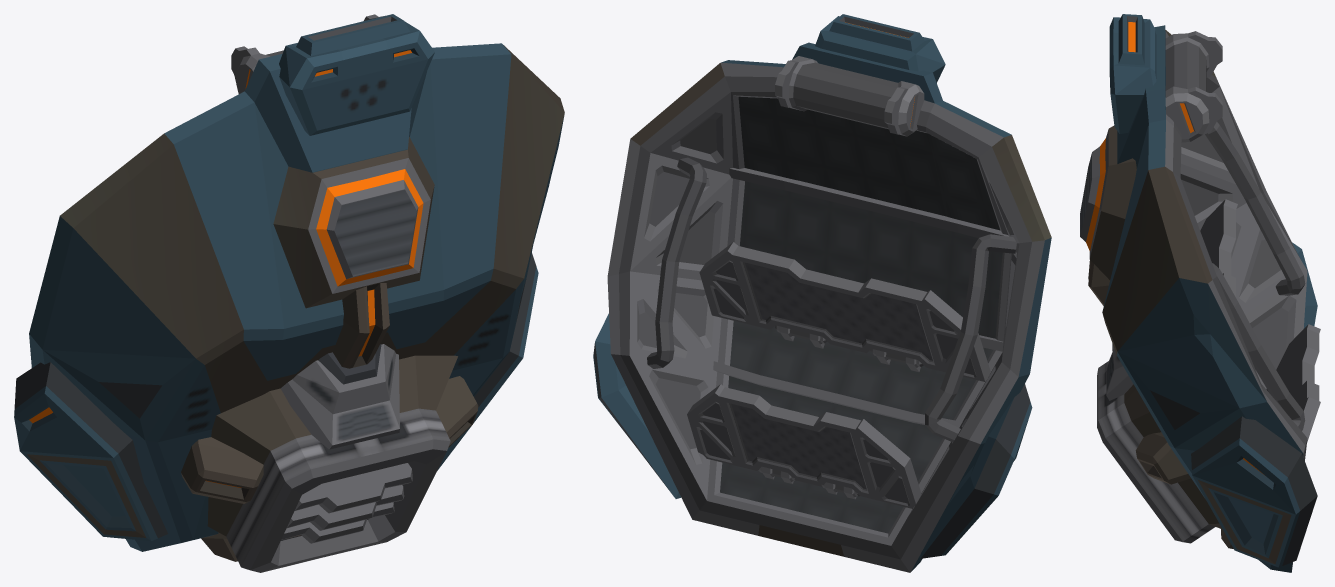
The model's file is SM_Mech_Cockpit_01_Armor_Door_01.fbx.
3 views of the same model, side by side, from view 1: azimuth 30°, elevation 25°; view 2: azimuth 150°, elevation 25°; view 3: azimuth 270°, elevation 25° (orthographic). The views are drawn at different scales.
Visible parts, largest first — view 1: SM_Mech_Cockpit_01_Armor_Door_01; view 2: SM_Mech_Cockpit_01_Armor_Door_01; view 3: SM_Mech_Cockpit_01_Armor_Door_01.
Part boxes in pixels (left/top/right/bottom): SM_Mech_Cockpit_01_Armor_Door_01: left=14, top=14, right=564, bottom=572; SM_Mech_Cockpit_01_Armor_Door_01: left=593, top=14, right=1051, bottom=572; SM_Mech_Cockpit_01_Armor_Door_01: left=1080, top=14, right=1320, bottom=572.
Bounding box in the file's own units: 111 × 119 × 52.45.
